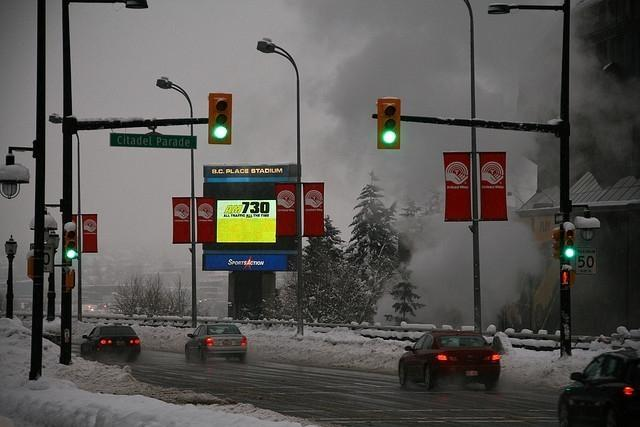car: (556, 347, 639, 422), (399, 328, 500, 389), (185, 324, 248, 362), (80, 326, 142, 362)
